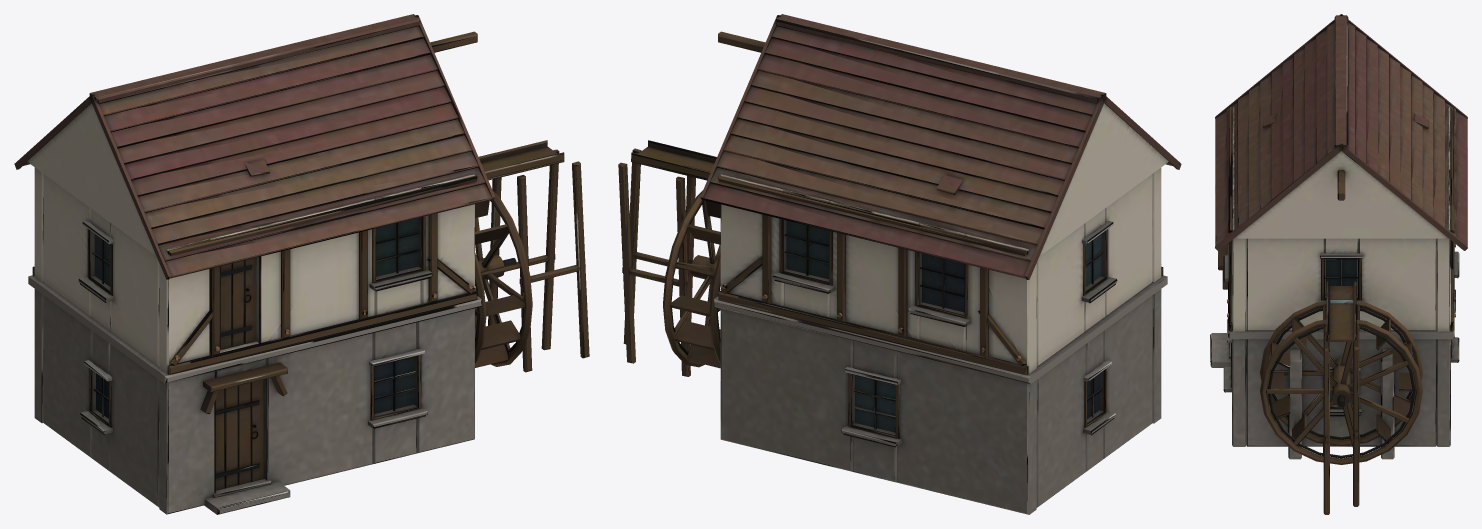
File: watermill-t3.glb
The picture shows the model from 3 angles, left to right: view 1: azimuth 30°, elevation 25°; view 2: azimuth 150°, elevation 25°; view 3: azimuth 270°, elevation 25°; orthographic projection. The views are drawn at different scales.
Visible parts, largest first — view 1: hero; view 2: hero; view 3: hero.
Part boxes in pixels (x1=…): hero: x1=14, y1=14, x2=589, y2=514; hero: x1=618, y1=14, x2=1181, y2=514; hero: x1=1210, y1=14, x2=1467, y2=514.
Bounding box in the file's own units: 9.49 × 6.94 × 5.3.
1 material, 1 textured.
